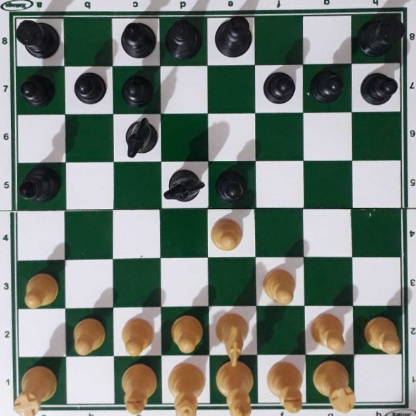black-bishop: (16, 165, 61, 202), (118, 18, 158, 55)
black-king: (215, 15, 252, 59)
black-knight: (123, 116, 156, 155), (163, 168, 202, 201)
black-pawn: (360, 69, 396, 105), (214, 166, 249, 202), (20, 72, 54, 104), (311, 68, 343, 102), (263, 68, 295, 102), (73, 70, 104, 104), (121, 71, 152, 105)
black-queen: (164, 16, 204, 60)
black-rook: (12, 16, 60, 58), (358, 10, 402, 55)
white-bishop: (265, 361, 302, 411), (121, 360, 154, 413)
white-king: (215, 357, 253, 414)
white-knight: (214, 310, 249, 366)
white-pawn: (309, 310, 347, 350), (363, 314, 400, 351), (21, 271, 58, 307), (70, 315, 105, 353), (119, 315, 152, 355), (261, 266, 295, 304), (169, 313, 202, 351), (209, 215, 242, 250)
white-queen: (166, 361, 205, 416)
white-rook: (15, 360, 55, 416), (312, 363, 353, 409)
